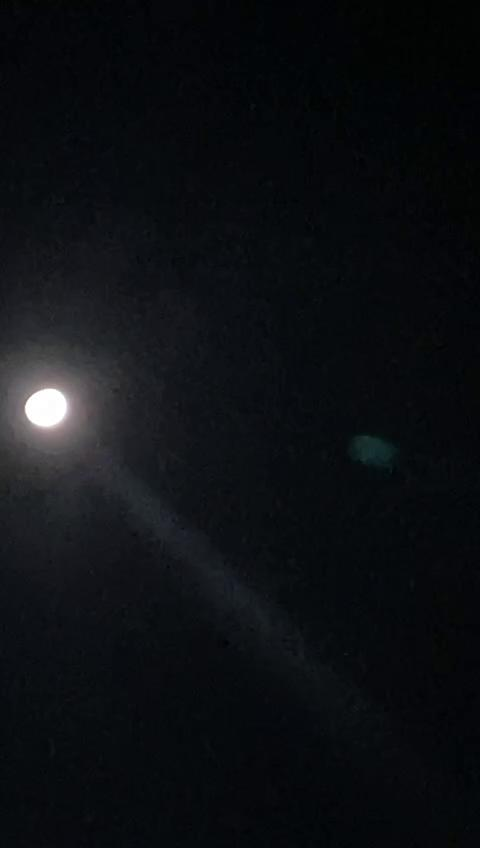moon: (19, 375, 87, 436)
